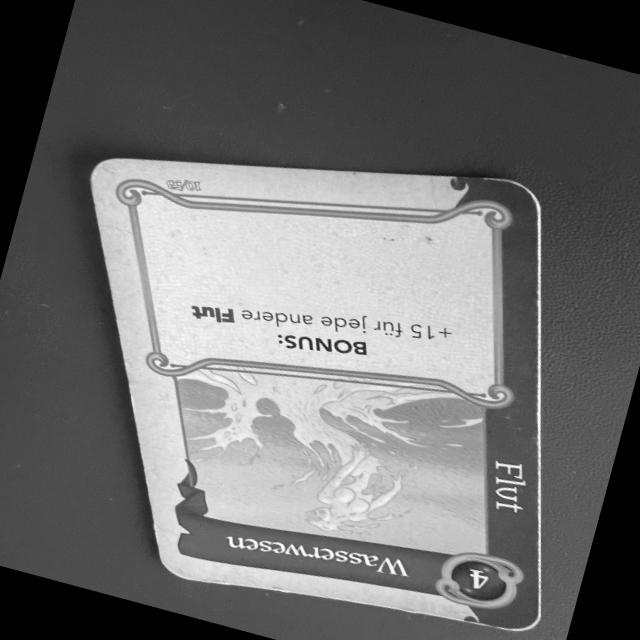Water Elemental: (76, 148, 544, 639)
